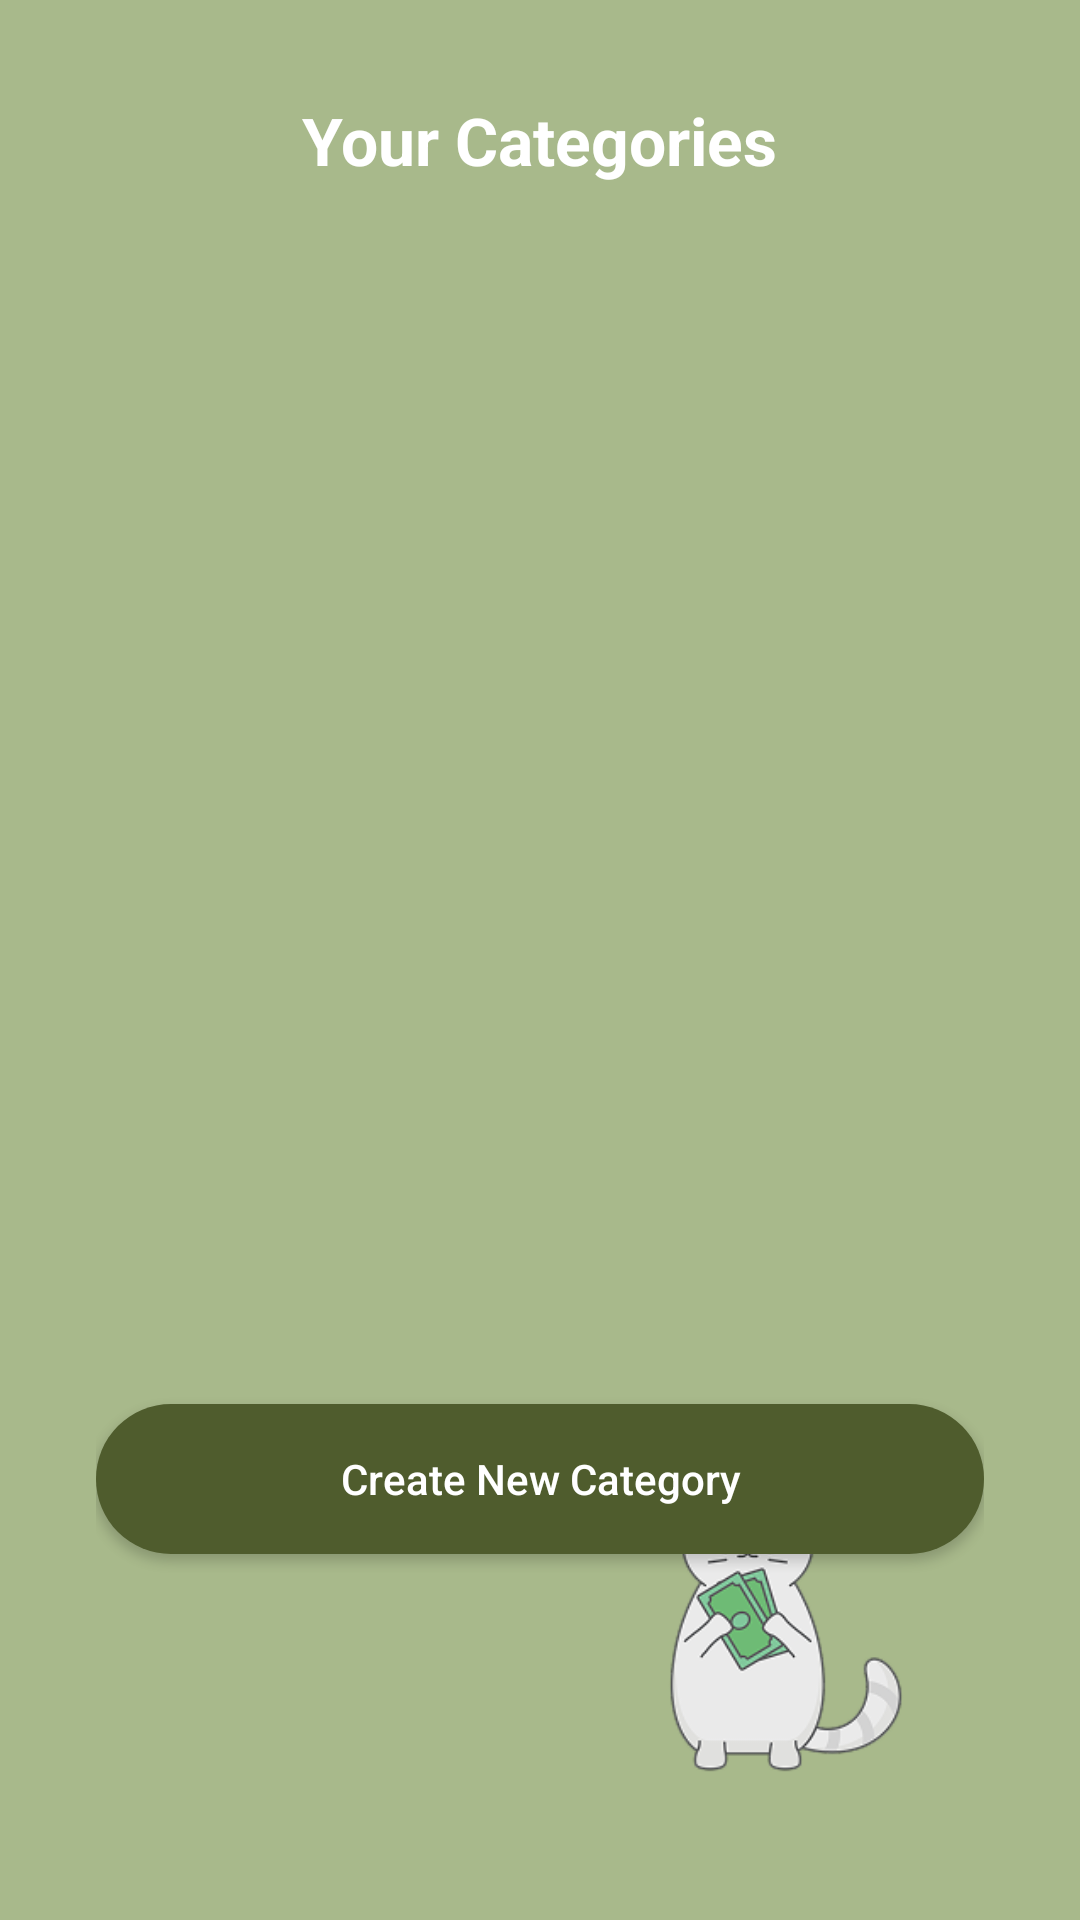

Screen size 1080w x 1920h. Icon name, then its center in pixels as (x,y):
cat: (786,1623)
